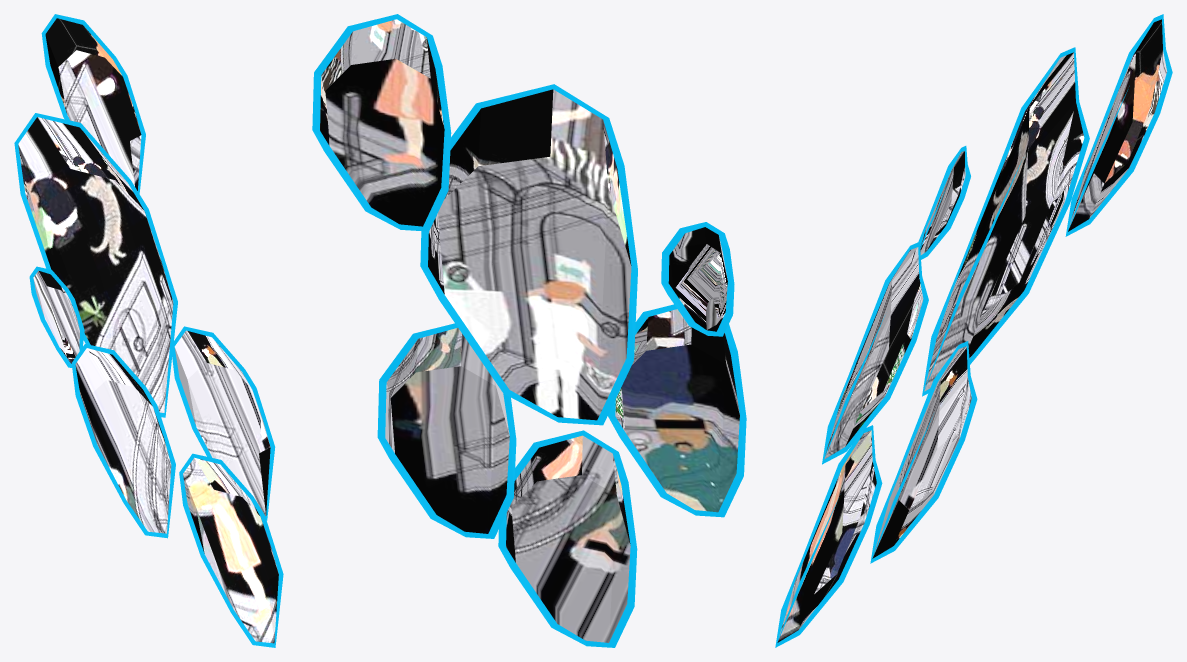
Rendered from Meet_Your_Neighbors_(Again).glb.
3 renders of one model, left to right at view 1: azimuth 30°, elevation 25°; view 2: azimuth 150°, elevation 25°; view 3: azimuth 270°, elevation 25°, orthographic. The views are drawn at different scales.
Parts seen in each view (by area): view 1: Marcos Parga.001; view 2: Marcos Parga.001; view 3: Marcos Parga.001.
Boxes of the visible parts, x1,y1,x2,y2 form: Marcos Parga.001: (14, 14, 283, 647); Marcos Parga.001: (312, 14, 746, 647); Marcos Parga.001: (775, 14, 1172, 647).
Size of the model in its own units: 2.7 by 6.01 by 3.58.
2 materials, 1 textured.
